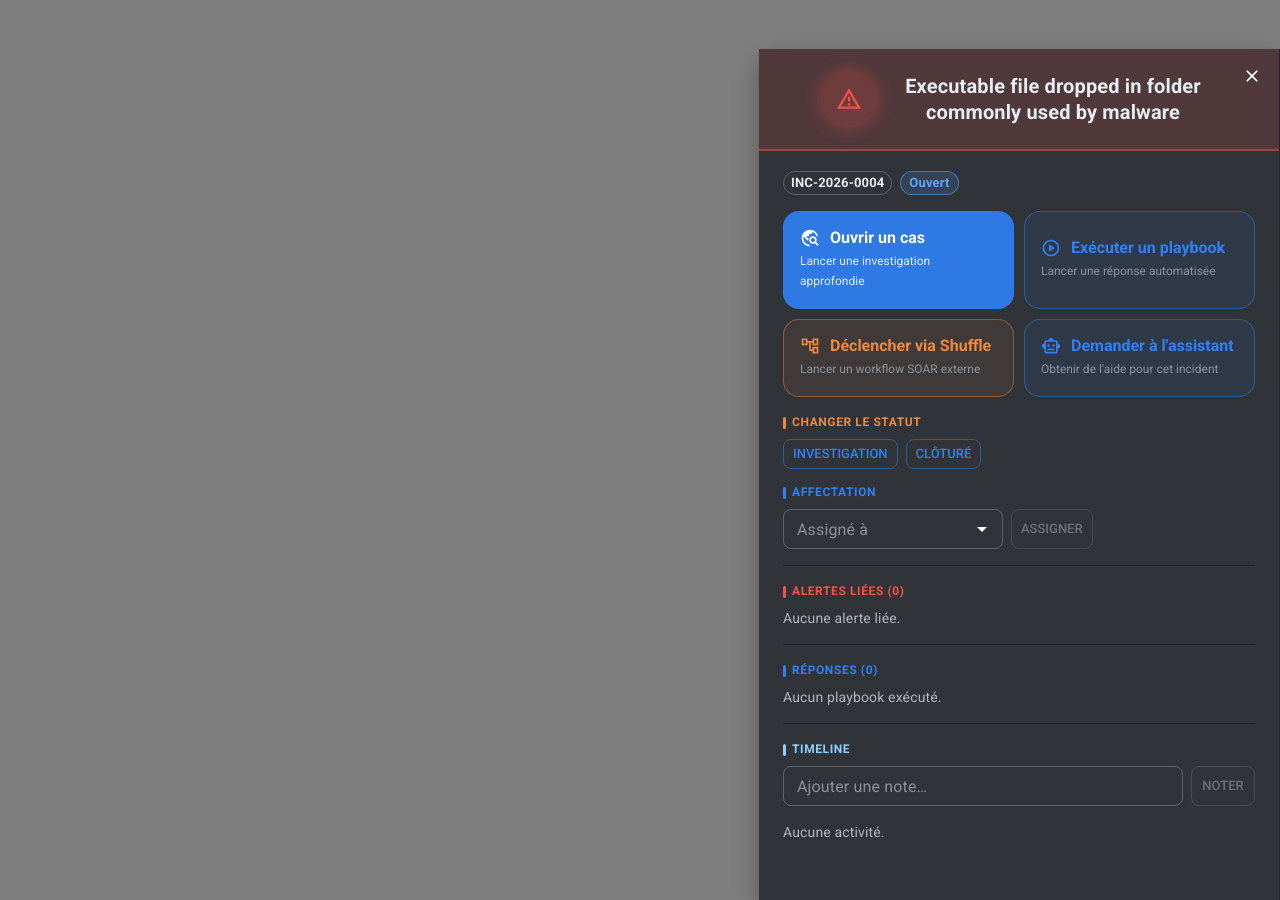
it: IncidentDetailDrawer — déclenchement Shuffle › exige le nom exact du playbook avant d’activer la confirmation
Step 1. Click the button "Déclencher via Shuffle Lancer un workflow SOAR externe" → (898, 358), box [783,319,1014,397]
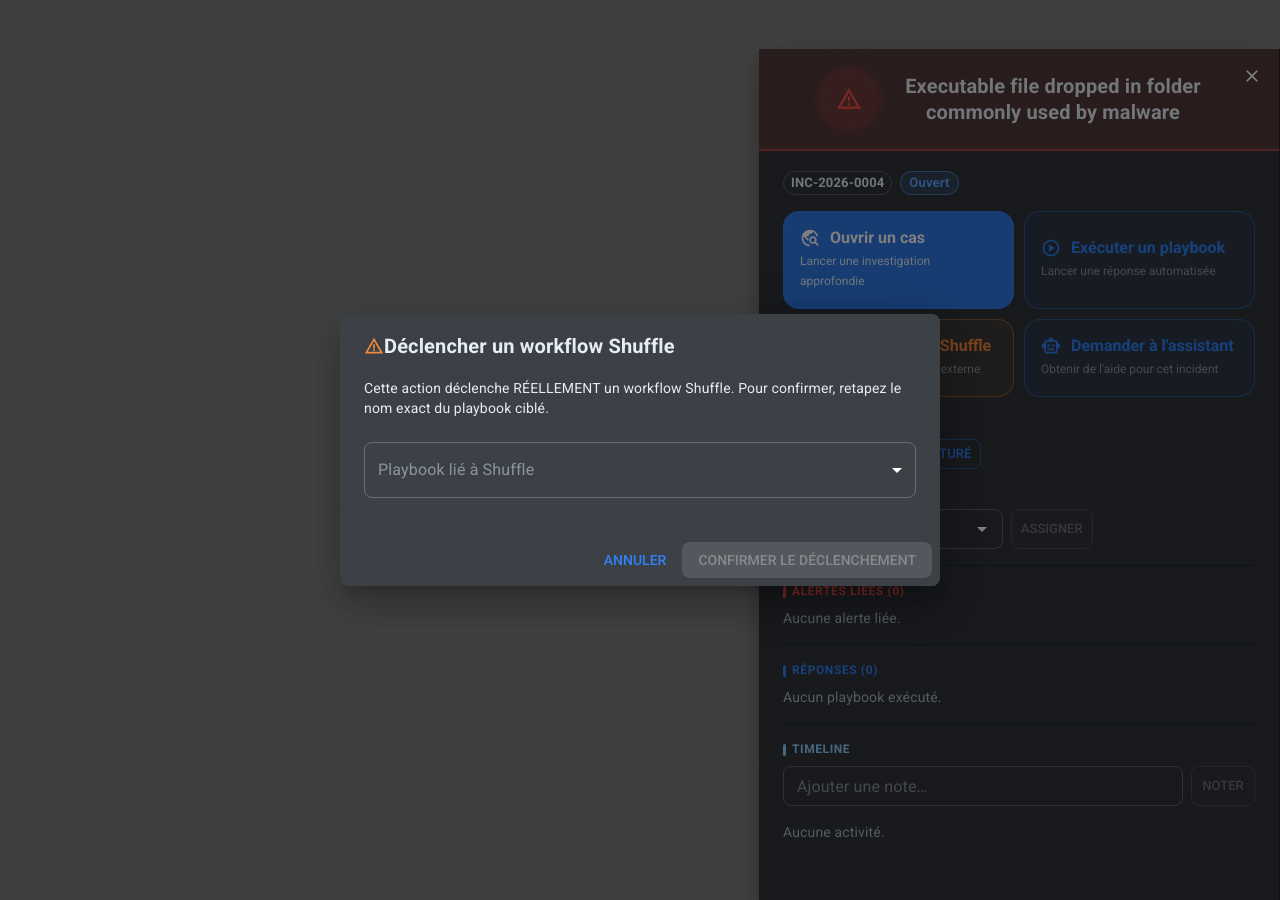
Step 2. Press the mouse on the dropdown named "Playbook lié à Shuffle" → (640, 470), box [364,442,916,498]
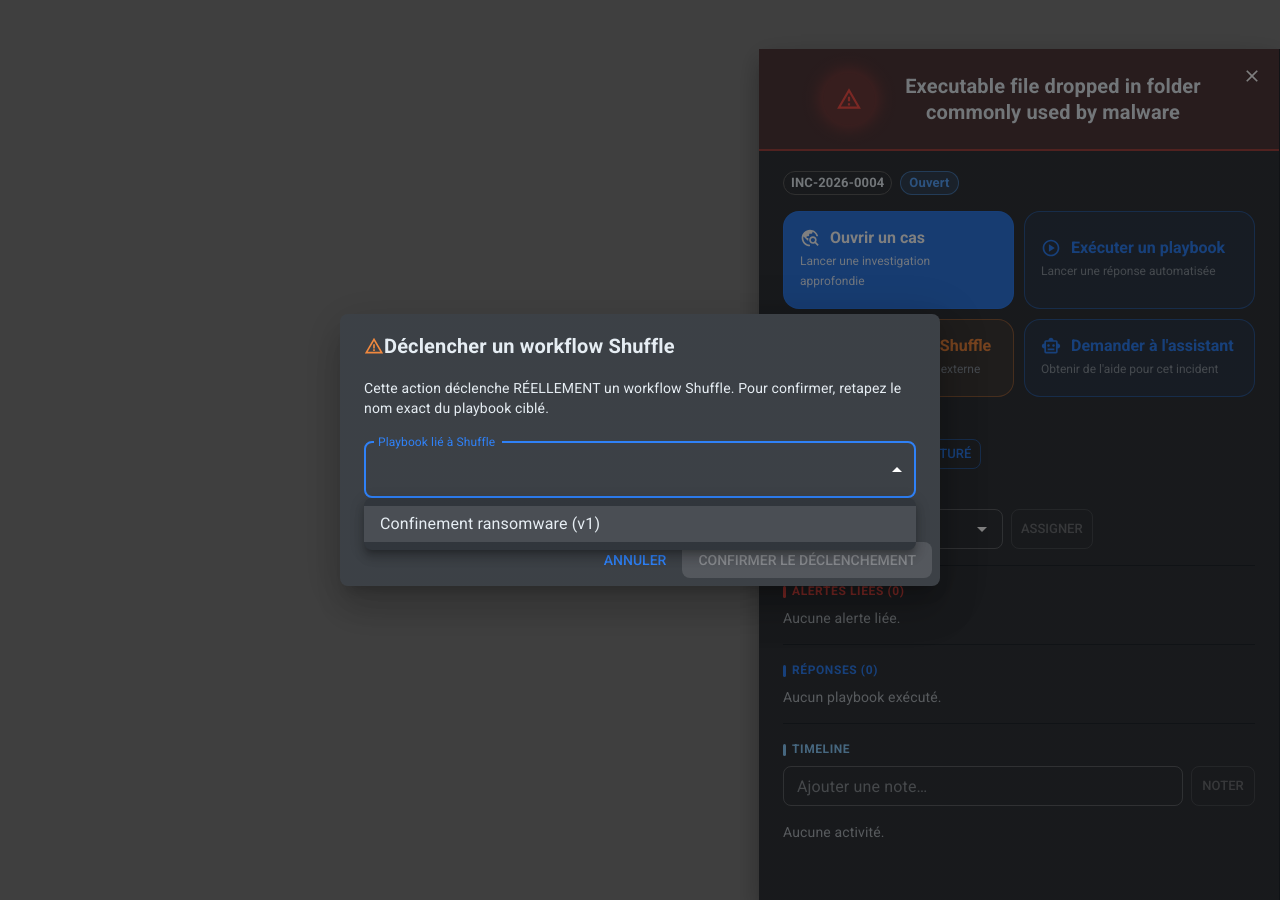
Step 3. Click the option "Confinement ransomware (v1)" → (474, 524), box [364,506,916,542]
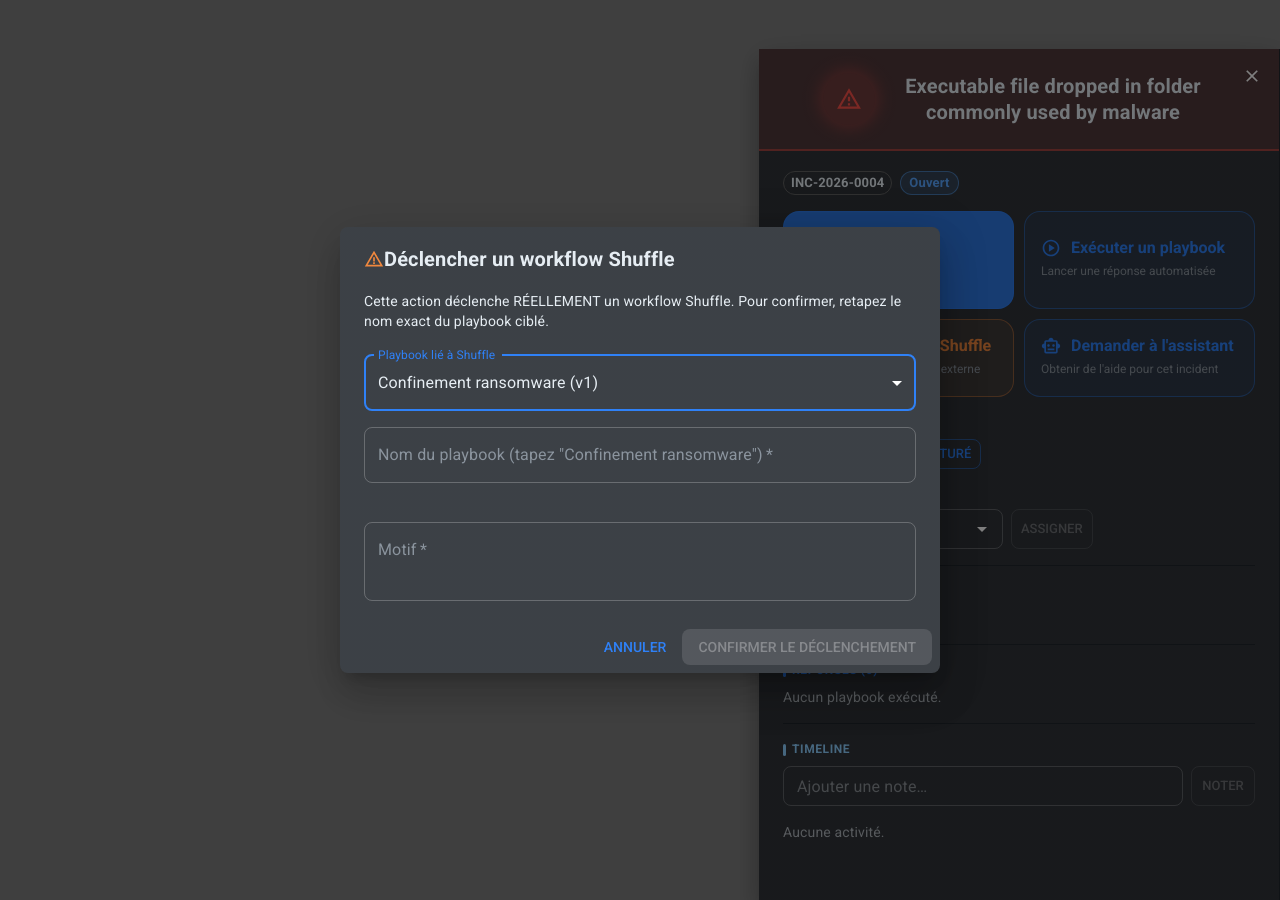
Now the button "Confirmer le déclenchement" is disabled, box [682,629,932,665]
Step 4. Type "mauvais nom" into the field labelled "Nom du playbook (tapez \"Confinement ransomware\") *" → (640, 455), box [364,427,916,483]
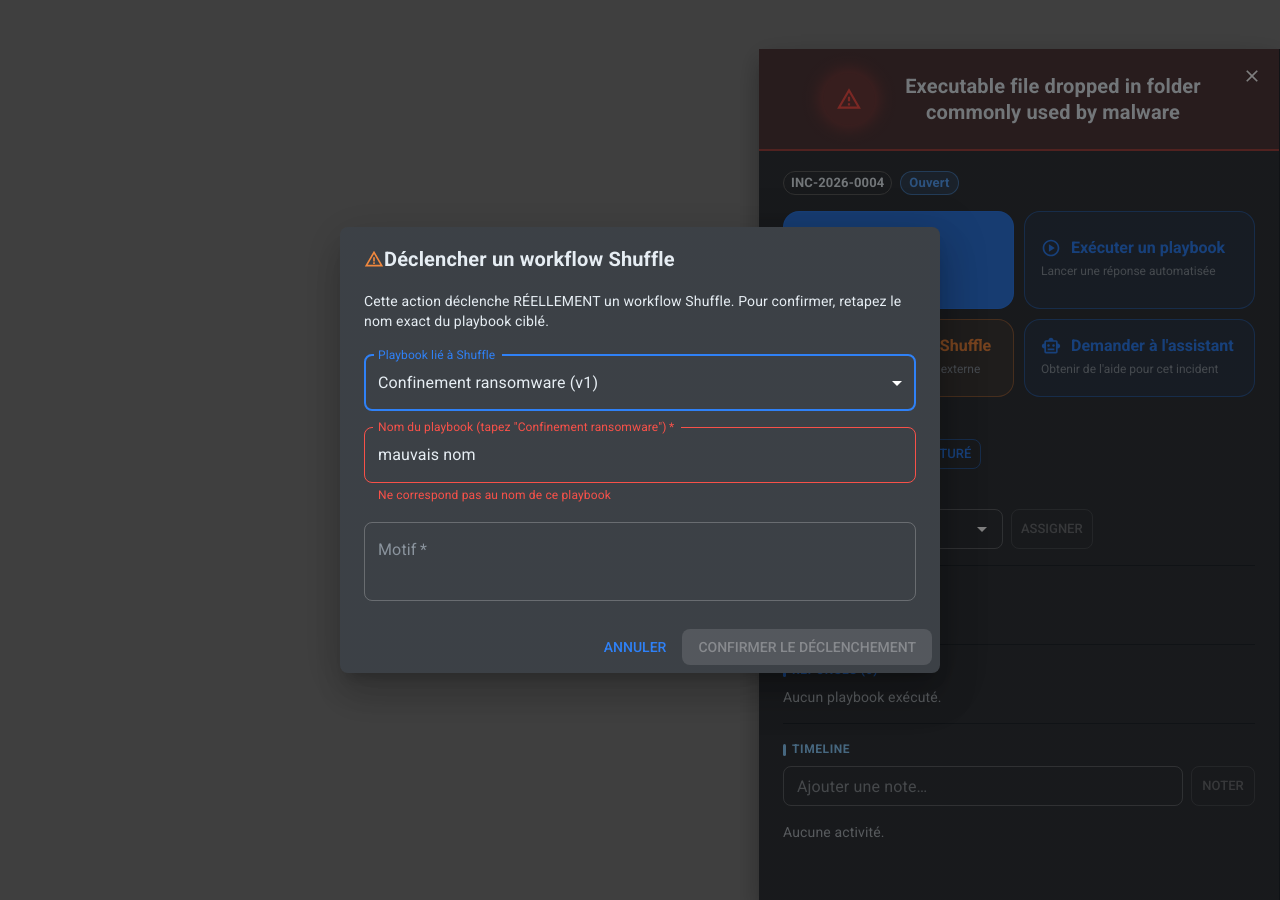
Step 5. Type "test" into the text box labelled "Motif *" → (640, 561), box [378,538,902,584]
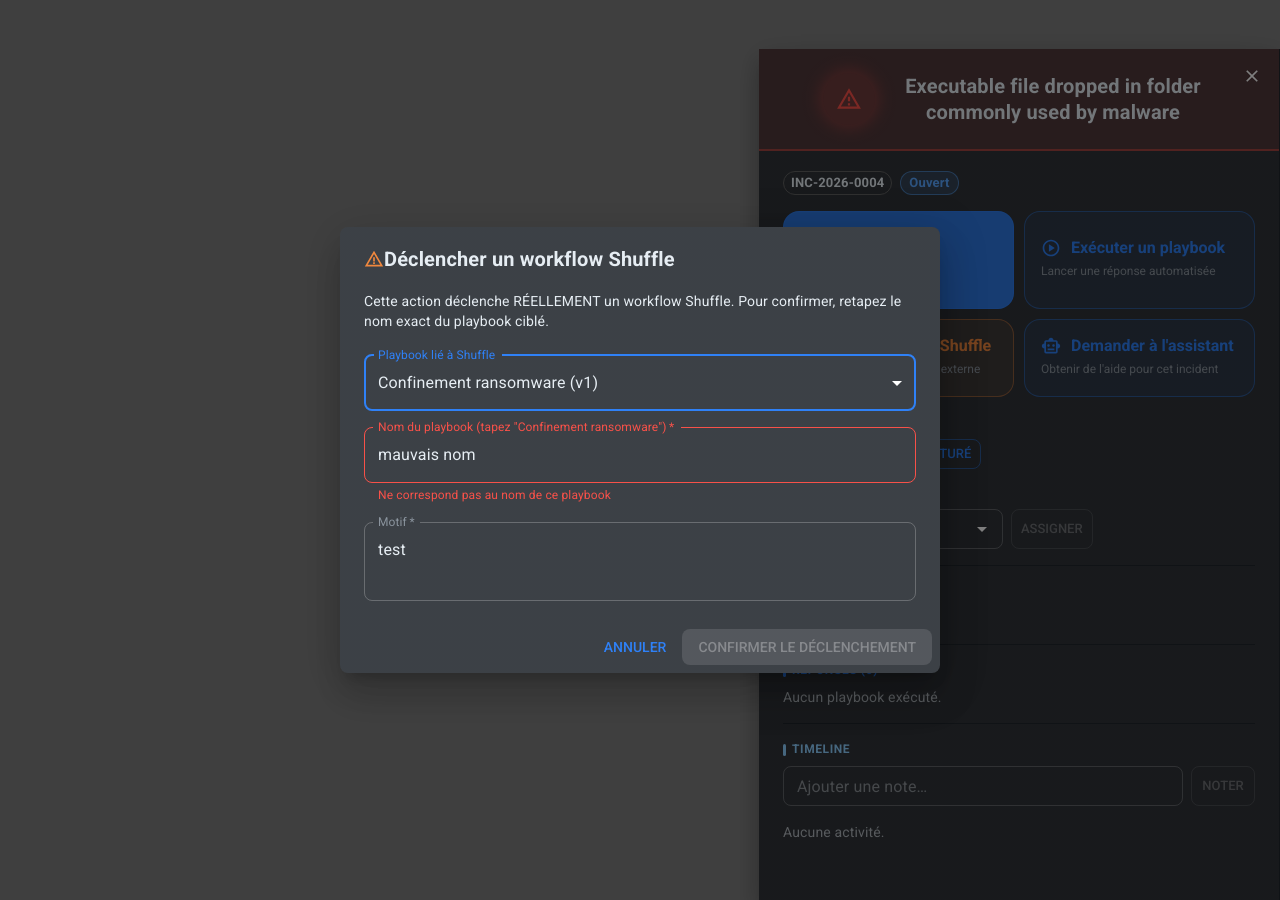
Now the button "Confirmer le déclenchement" is disabled, box [682,629,932,665]
Step 6. Replace the text in the field labelled "Nom du playbook (tapez \"Confinement ransomware\") *" with "Confinement ransomware" → (640, 455), box [364,427,916,483]
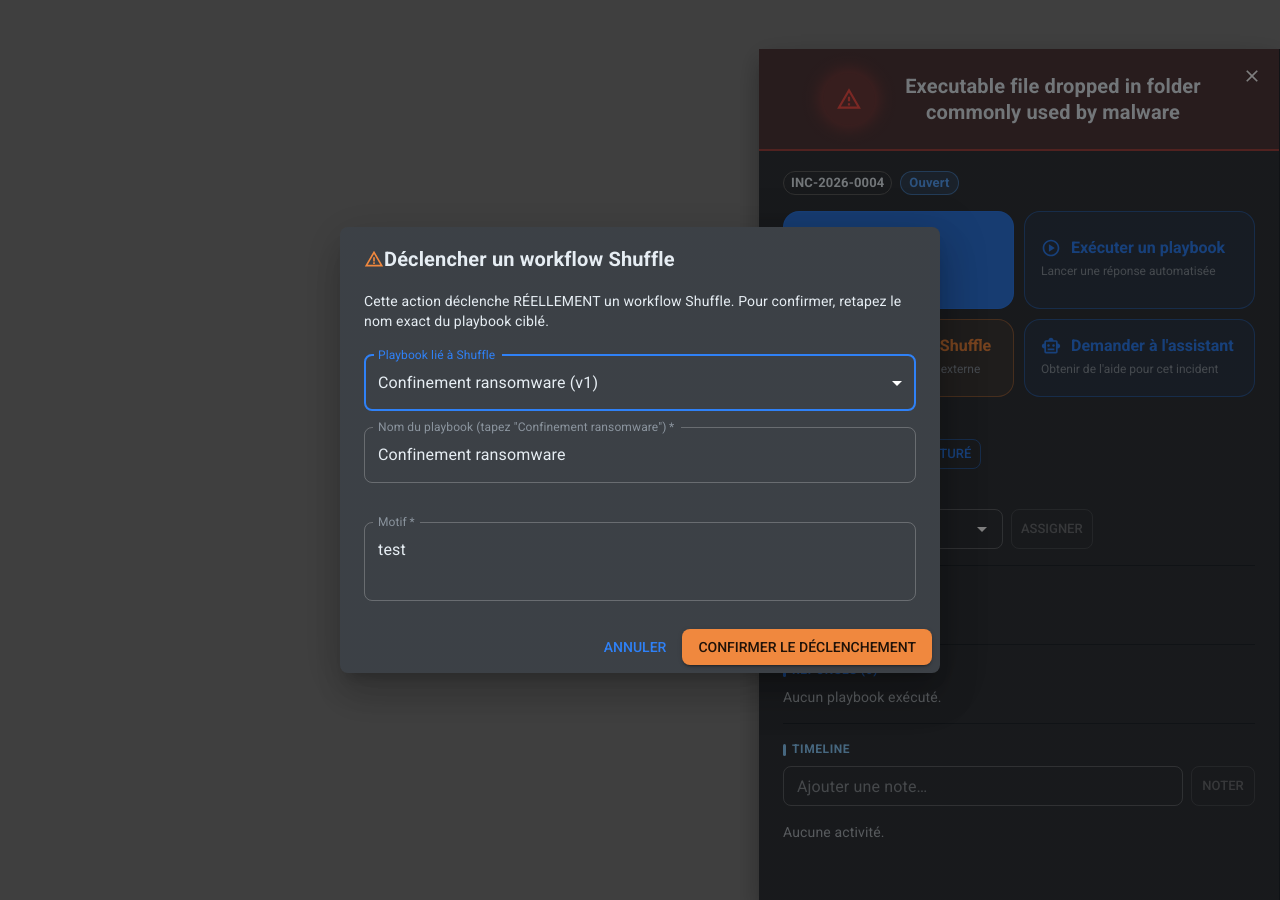
Now the button "Confirmer le déclenchement" is enabled, box [682,629,932,665]
